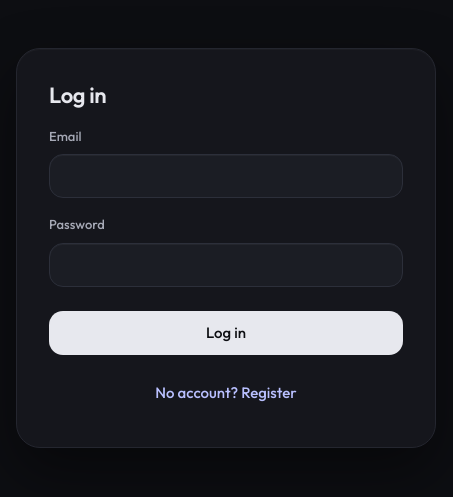
Test: LoginForm › shows the server's error and doesn't log in
The width and height of the screenshot is (453, 497).
In the field labelled "Email": (226, 176) top-left (49, 154), bottom-right (403, 198), type "me@test.com"
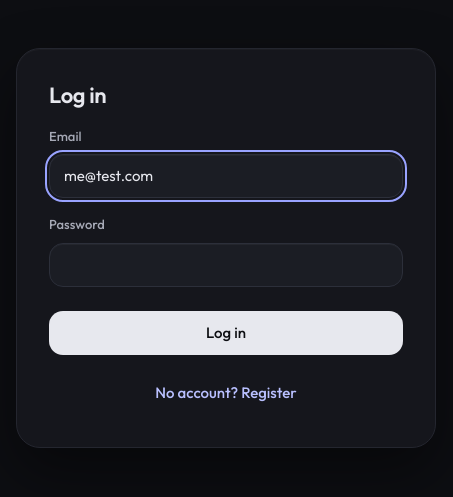
In the password field labelled "Password": (226, 265) top-left (49, 243), bottom-right (403, 287), type "wrong"
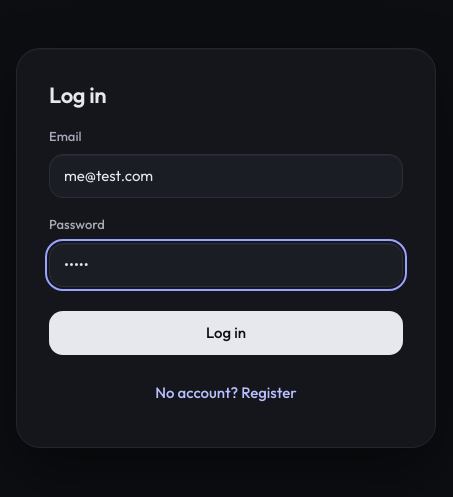
Click the button "Log in": (226, 333) top-left (49, 311), bottom-right (403, 355)
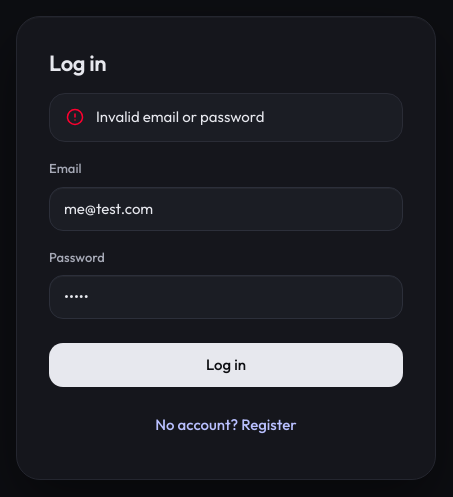
Expected: the button "Log in" is enabled, top-left (49, 343), bottom-right (403, 387)
Now the text "Invalid email or password" is shown, box top-left (49, 93), bottom-right (403, 142)
